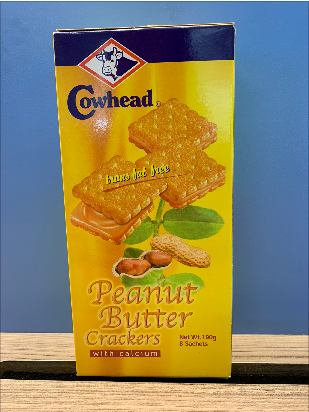Crackers_100-199g: (65, 43, 223, 369)
